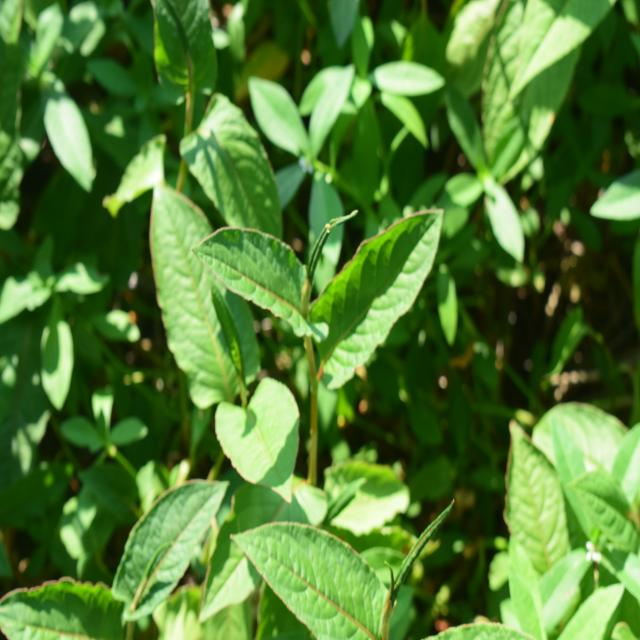Chinese_knotweed: (143, 179, 424, 435)
